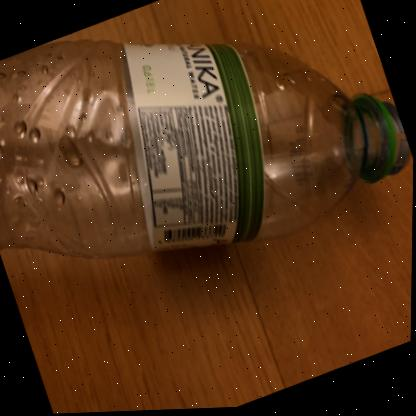Plastic: (0, 40, 412, 259)
